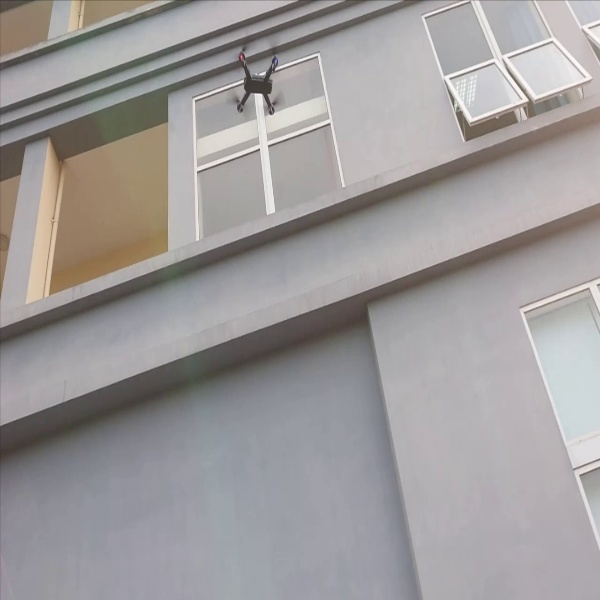drone: (221, 36, 295, 122)
